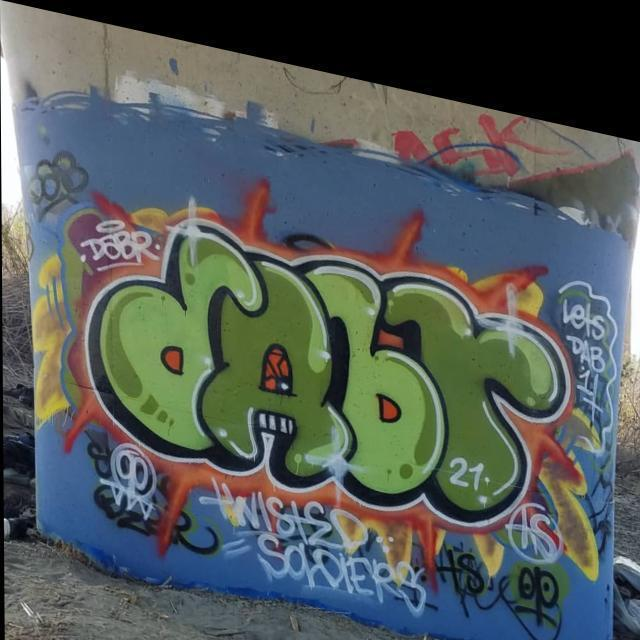-: (65, 161, 586, 542), (194, 461, 436, 606), (430, 510, 582, 636), (88, 427, 222, 562), (550, 234, 620, 433), (76, 197, 162, 279), (28, 128, 88, 228), (506, 465, 561, 547)
